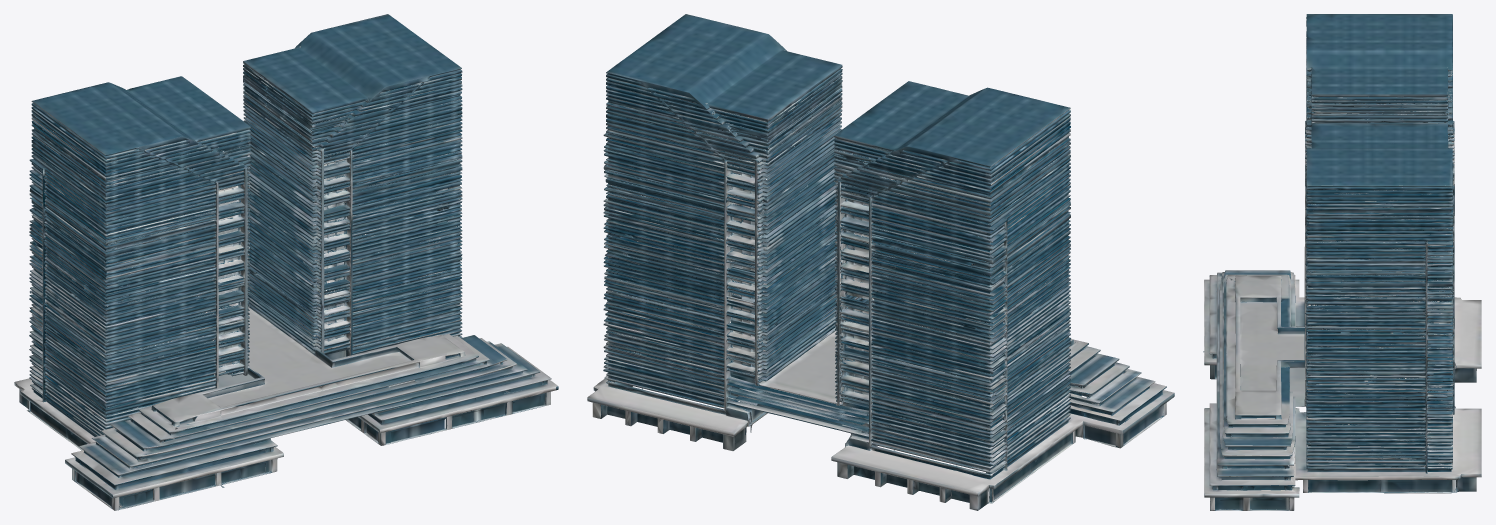
File: twin-glass-towers-detail.glb
The picture shows the model from 3 angles, left to right: view 1: azimuth 30°, elevation 25°; view 2: azimuth 150°, elevation 25°; view 3: azimuth 270°, elevation 25°; orthographic projection. The views are drawn at different scales.
Size of the model in its own units: 1.9 by 1.27 by 1.04.
Materials: 1 (1 with a texture image).
